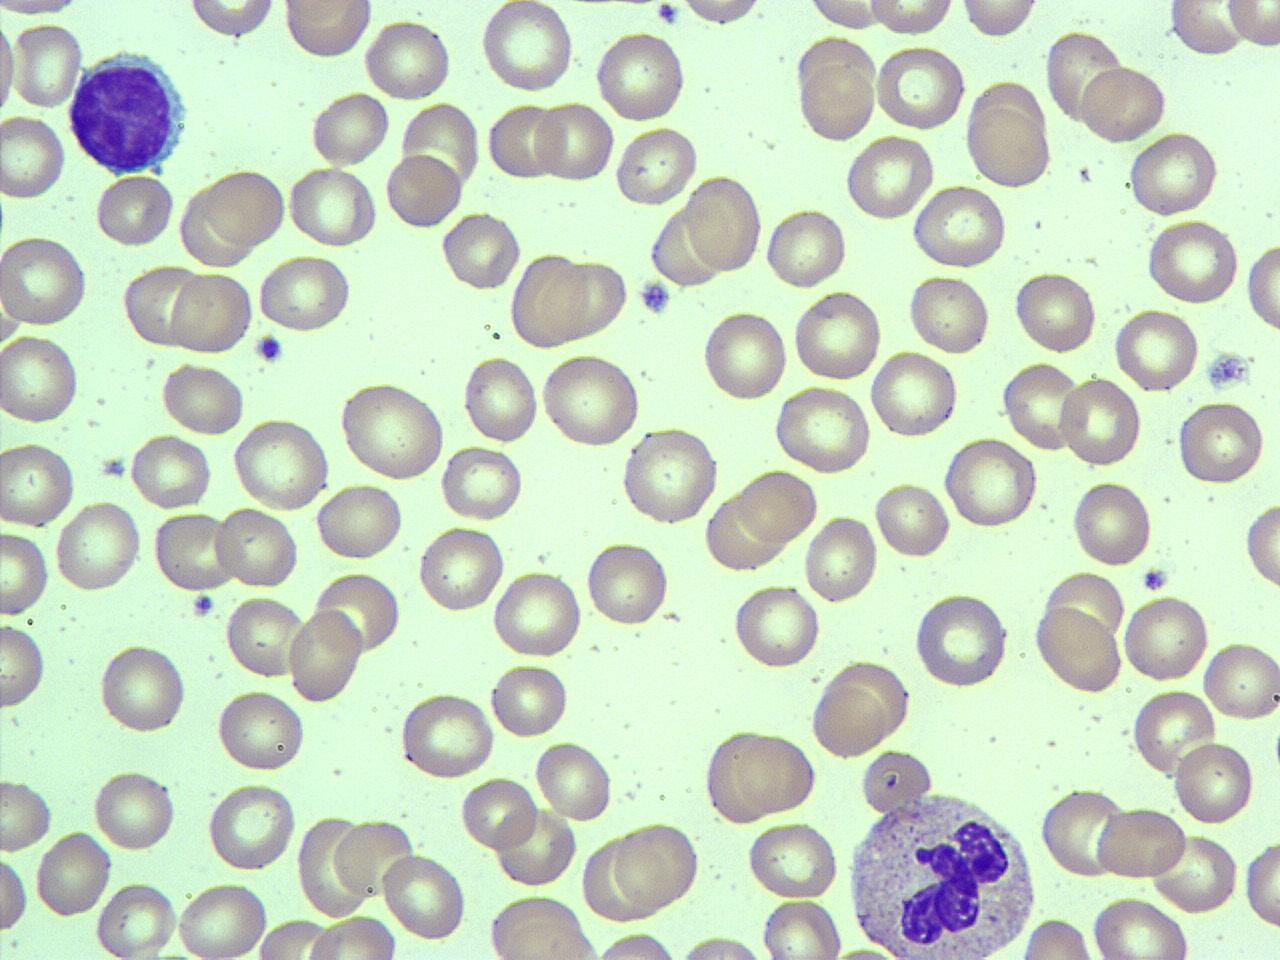Platelets: (1204, 349, 1248, 392), (637, 276, 673, 316), (253, 332, 286, 366), (1140, 565, 1172, 594), (98, 454, 130, 481), (654, 2, 682, 26), (190, 592, 215, 617)
RBC: (337, 379, 447, 481), (619, 424, 722, 528), (538, 350, 644, 452), (810, 658, 914, 760), (519, 253, 626, 348), (962, 82, 1054, 191), (913, 589, 1011, 691), (792, 34, 882, 145), (233, 415, 333, 514), (942, 434, 1040, 532), (770, 384, 874, 475), (478, 1, 577, 96), (592, 28, 690, 123), (396, 688, 496, 782), (95, 640, 190, 737), (52, 496, 143, 596), (910, 182, 1010, 272), (1032, 598, 1126, 694), (490, 567, 586, 659), (792, 288, 884, 385), (844, 131, 938, 224), (1142, 217, 1240, 307), (396, 99, 483, 200), (700, 308, 790, 404), (1126, 130, 1224, 219), (207, 779, 298, 873), (866, 348, 959, 440), (311, 565, 402, 659), (1038, 786, 1128, 880), (214, 686, 308, 774), (732, 580, 822, 672), (613, 820, 702, 913), (1121, 592, 1209, 686), (874, 43, 968, 132), (1042, 27, 1124, 128), (1175, 397, 1267, 487), (416, 522, 506, 614), (682, 173, 762, 276), (285, 604, 365, 707), (584, 537, 672, 629), (1, 232, 88, 326), (1058, 374, 1144, 469), (212, 503, 301, 593), (1112, 306, 1202, 394), (1150, 828, 1242, 916), (1011, 266, 1099, 358), (285, 164, 379, 250), (175, 172, 259, 268), (174, 878, 272, 960), (0, 330, 81, 429), (255, 254, 355, 334), (612, 122, 700, 211), (381, 851, 468, 942), (1070, 477, 1156, 569), (1000, 358, 1082, 453), (745, 820, 842, 901), (1132, 687, 1215, 778), (363, 18, 455, 102), (1094, 802, 1188, 882), (735, 726, 818, 817), (532, 98, 618, 186), (764, 204, 850, 291), (462, 352, 541, 446), (1080, 62, 1168, 146), (486, 892, 596, 960), (0, 437, 79, 530), (166, 270, 254, 354), (532, 737, 615, 826), (34, 826, 112, 920), (1171, 740, 1257, 825), (439, 208, 524, 293), (92, 767, 178, 851), (314, 482, 405, 562), (151, 509, 238, 592), (802, 514, 880, 606), (494, 804, 578, 888), (128, 430, 214, 512), (906, 273, 992, 356), (122, 262, 204, 349), (438, 442, 526, 522), (224, 593, 304, 681), (204, 167, 288, 249), (158, 359, 247, 437), (95, 878, 178, 960), (1200, 638, 1280, 724), (1089, 895, 1193, 960), (872, 479, 953, 562), (94, 170, 177, 251), (308, 88, 391, 168), (10, 20, 81, 114), (702, 727, 770, 825), (332, 818, 412, 899), (488, 659, 569, 740), (383, 149, 463, 231), (0, 110, 69, 204), (458, 773, 538, 853), (738, 466, 818, 545), (487, 100, 560, 183), (759, 896, 847, 960), (280, 1, 374, 58), (860, 746, 934, 816), (1165, 0, 1249, 59), (0, 530, 52, 620), (304, 912, 403, 959), (0, 620, 49, 712), (0, 774, 55, 854), (1244, 235, 1280, 338), (185, 0, 280, 39), (253, 915, 337, 959), (862, 0, 959, 37), (1243, 834, 1279, 934), (956, 0, 1044, 40), (1242, 500, 1280, 591), (1018, 915, 1094, 959), (1223, 0, 1279, 54), (590, 928, 682, 960), (802, 0, 888, 33), (674, 933, 776, 960), (676, 0, 768, 28), (0, 852, 30, 936), (0, 11, 19, 130)
WBC: (842, 784, 1044, 960), (63, 47, 191, 175)
